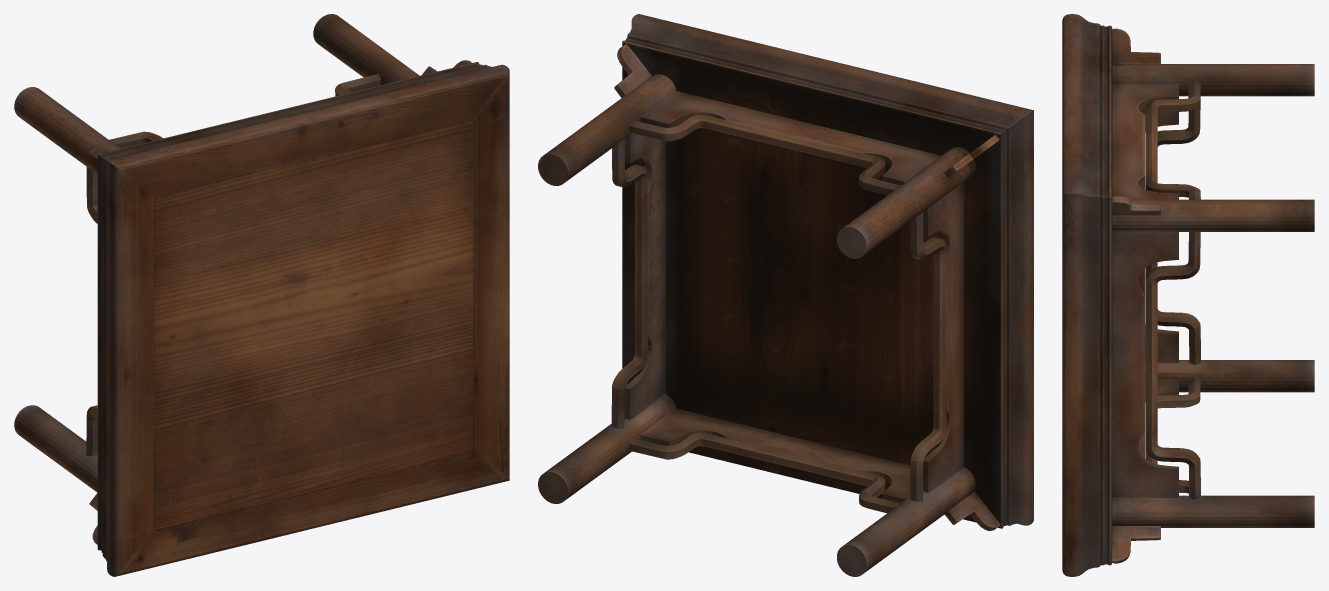
File: living_tea_table.obj
3 views of the same model, side by side, from view 1: azimuth 30°, elevation 25°; view 2: azimuth 150°, elevation 25°; view 3: azimuth 270°, elevation 25° (orthographic). The views are drawn at different scales.
Visible parts, largest first — view 1: Plane.003; view 2: Plane.003; view 3: Plane.003.
Boxes of the visible parts, <box> form: Plane.003: <box>14,14,509,576</box>; Plane.003: <box>538,14,1033,576</box>; Plane.003: <box>1062,14,1314,576</box>.
Bounding box in the file's own units: 0.8099 × 0.8044 × 0.48.
Materials: 1 (1 with a texture image).
